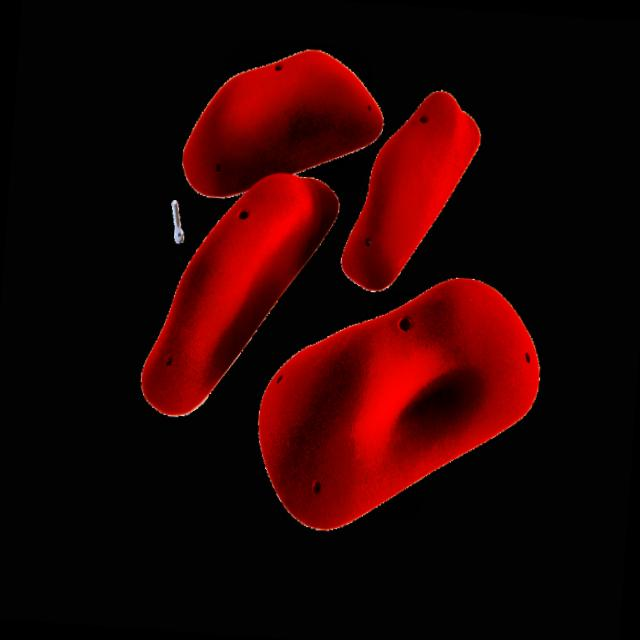Hold: (245, 257, 548, 549), (130, 161, 341, 427), (329, 75, 490, 308), (173, 43, 397, 209)
